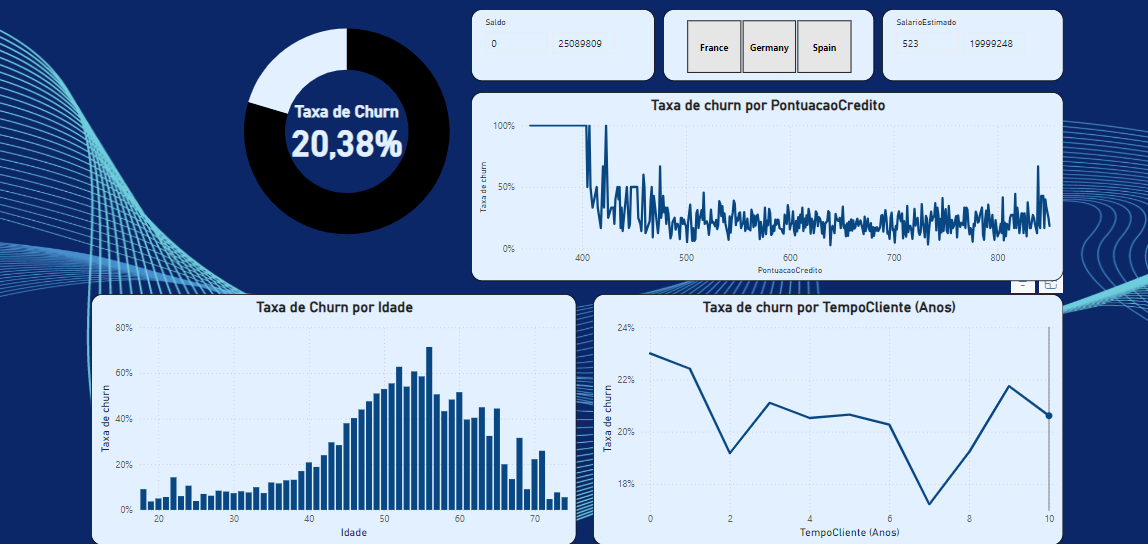

This screenshot's page, from the dashboard's own definition file:
{"tool":"powerbi","page":{"name":"Página 1","canvas":[1280,720],"ordinal":0},"visuals":[{"type":"donutChart","fields":{"Y":["CountNonNull(Customer_Churn_Records_reduced.StatusCliente)"],"Category":["Customer_Churn_Records_reduced.StatusCliente"]},"box":[86.4,0,499.7,348.5],"z":0},{"type":"card","title":"Taxa de Churn","fields":{"Values":["medidas.Taxa saída"]},"box":[239,135.4,194.4,96.5],"z":1000},{"type":"columnChart","title":"Taxa de Churn por Idade","fields":{"Category":["Customer_Churn_Records_reduced.Idade"],"Y":["medidas.Taxa saída"]},"box":[0,388.8,639.4,331.2],"z":2000},{"type":"lineChart","fields":{"Category":["Customer_Churn_Records_reduced.TempoCliente (Anos)"],"Y":["medidas.Taxa de churn"]},"box":[661,388.8,619.2,331.2],"z":3000},{"type":"slicer","title":"Saldo do Cliente","fields":{"Values":["Customer_Churn_Records_reduced.Saldo"]},"box":[499.7,13,241.9,95],"z":4000},{"type":"lineChart","fields":{"Category":["Customer_Churn_Records_reduced.PontuacaoCredito"],"Y":["medidas.Taxa de churn"]},"box":[499.7,122.4,780.5,249.1],"z":5000},{"type":"slicer","fields":{"Values":["Customer_Churn_Records_reduced.Geografia"]},"box":[753.1,13,277.9,95],"z":6000},{"type":"slicer","title":"Salário ","fields":{"Values":["Customer_Churn_Records_reduced.SalarioEstimado"]},"box":[1041.1,13,239,95],"z":7000}]}

Visuals, with their boxes in screenshot pixels (x1, y1, x2, y2):
donutChart - CountNonNull(Customer_Churn_Records_reduced.StatusCliente) x Customer_Churn_Records_reduced.StatusCliente: pyautogui.locateOnScreen(169, 0, 541, 260)
"Taxa de Churn" card: pyautogui.locateOnScreen(283, 101, 428, 173)
"Taxa de Churn por Idade" columnChart: pyautogui.locateOnScreen(105, 290, 581, 537)
lineChart - Customer_Churn_Records_reduced.TempoCliente (Anos) x medidas.Taxa de churn: pyautogui.locateOnScreen(597, 290, 1059, 537)
"Saldo do Cliente" slicer: pyautogui.locateOnScreen(477, 10, 657, 80)
lineChart - Customer_Churn_Records_reduced.PontuacaoCredito x medidas.Taxa de churn: pyautogui.locateOnScreen(477, 91, 1059, 277)
slicer - Customer_Churn_Records_reduced.Geografia: pyautogui.locateOnScreen(666, 10, 873, 80)
"Salário " slicer: pyautogui.locateOnScreen(881, 10, 1059, 80)
